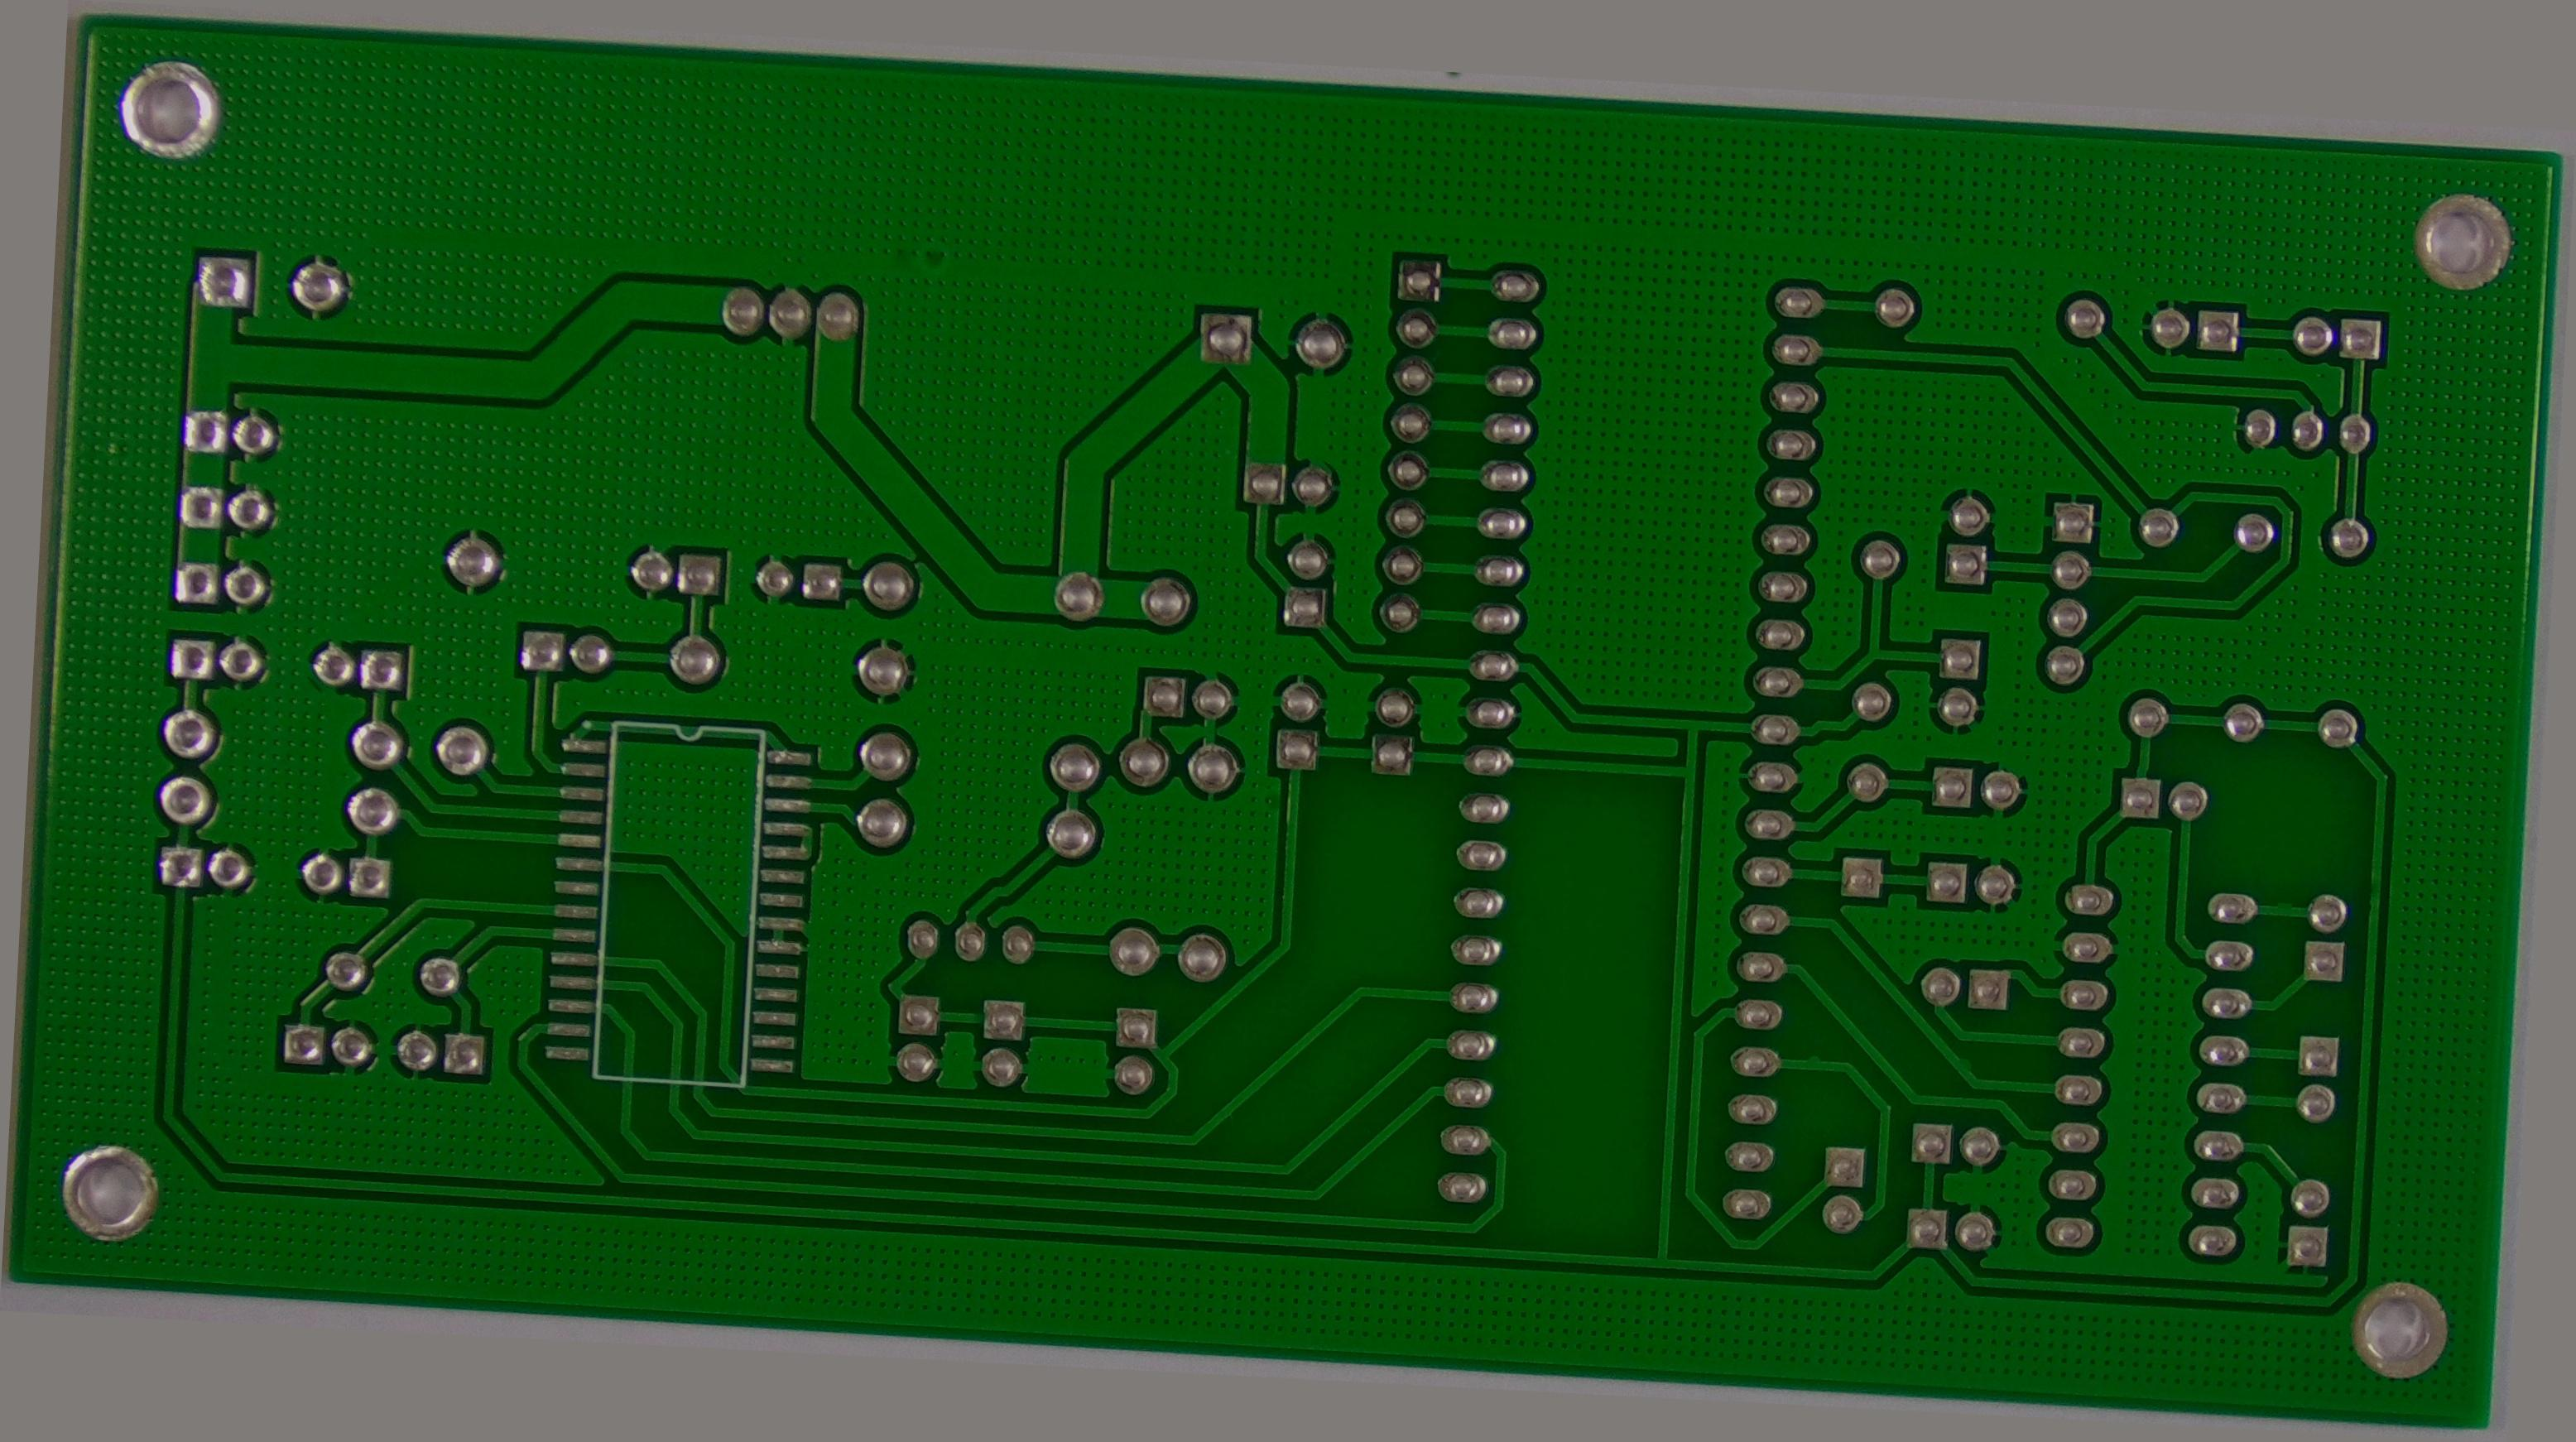spur: (1941, 1042, 1980, 1083), (2265, 890, 2302, 922), (1796, 1047, 1828, 1078)
